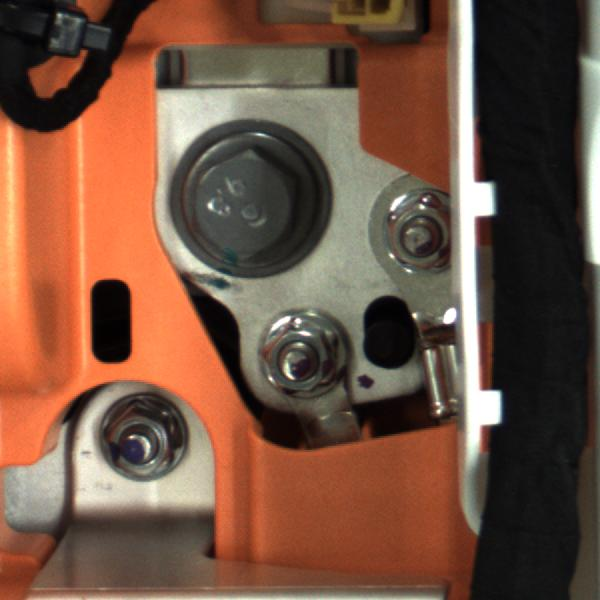nut_b: (160, 121, 342, 281)
screw_s: (246, 301, 342, 405), (86, 407, 183, 483), (384, 194, 462, 278)
